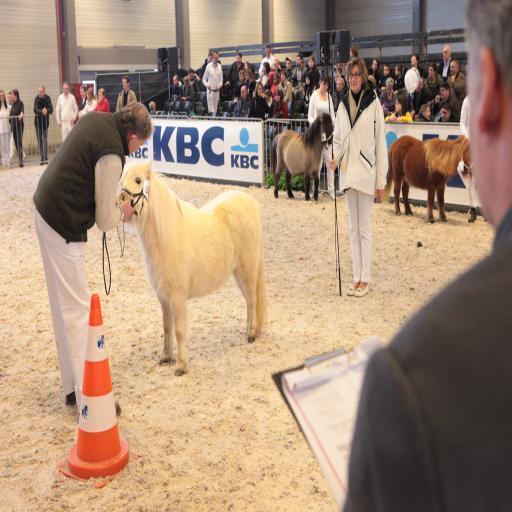horse: (117, 158, 267, 384), (383, 136, 474, 227), (268, 108, 336, 202)
